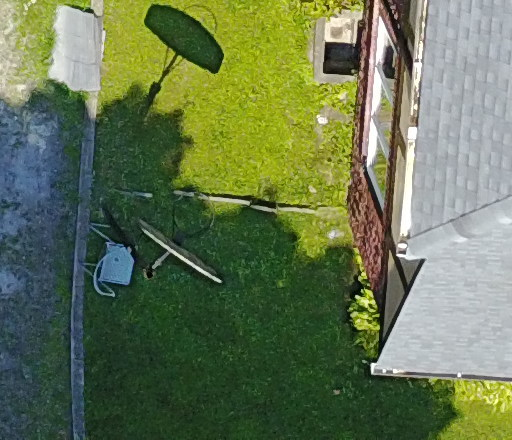basketball: (61, 172, 251, 343)
